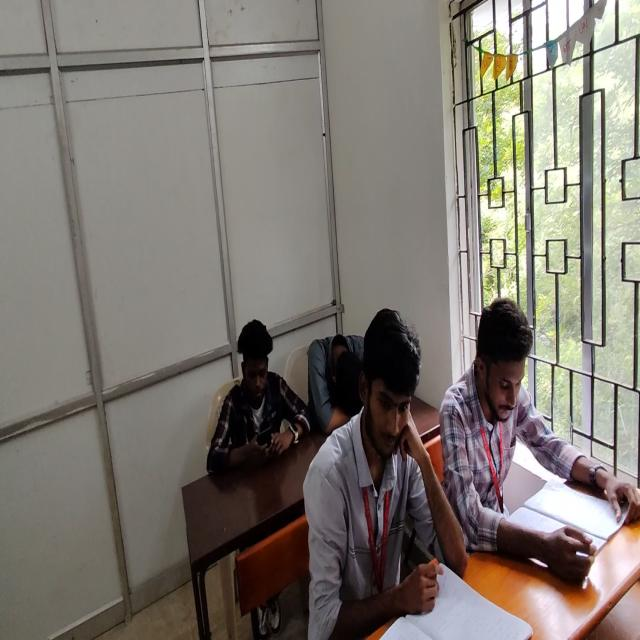reading: (442, 297, 640, 579), (302, 308, 452, 640)
sleeping: (310, 332, 367, 436)
using_mobile: (206, 317, 313, 473)
